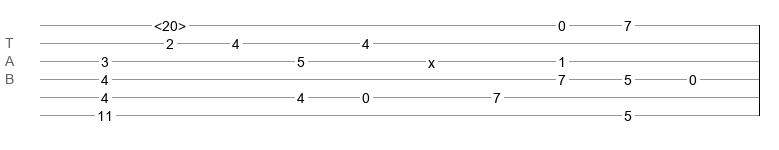0: (362, 90, 370, 100), (558, 18, 566, 28), (689, 72, 697, 82)
1: (558, 54, 566, 64)
11: (97, 108, 113, 118)
2: (166, 36, 174, 46)
3: (101, 54, 109, 64)
4: (101, 90, 109, 100), (101, 72, 109, 82), (232, 36, 240, 46), (297, 90, 305, 100), (362, 36, 370, 46)
5: (297, 54, 305, 64), (624, 108, 632, 118), (624, 72, 632, 82)
7: (493, 90, 501, 100), (558, 72, 566, 82), (624, 18, 632, 28)
harmonic: (154, 18, 186, 28)
x: (428, 55, 435, 63)
